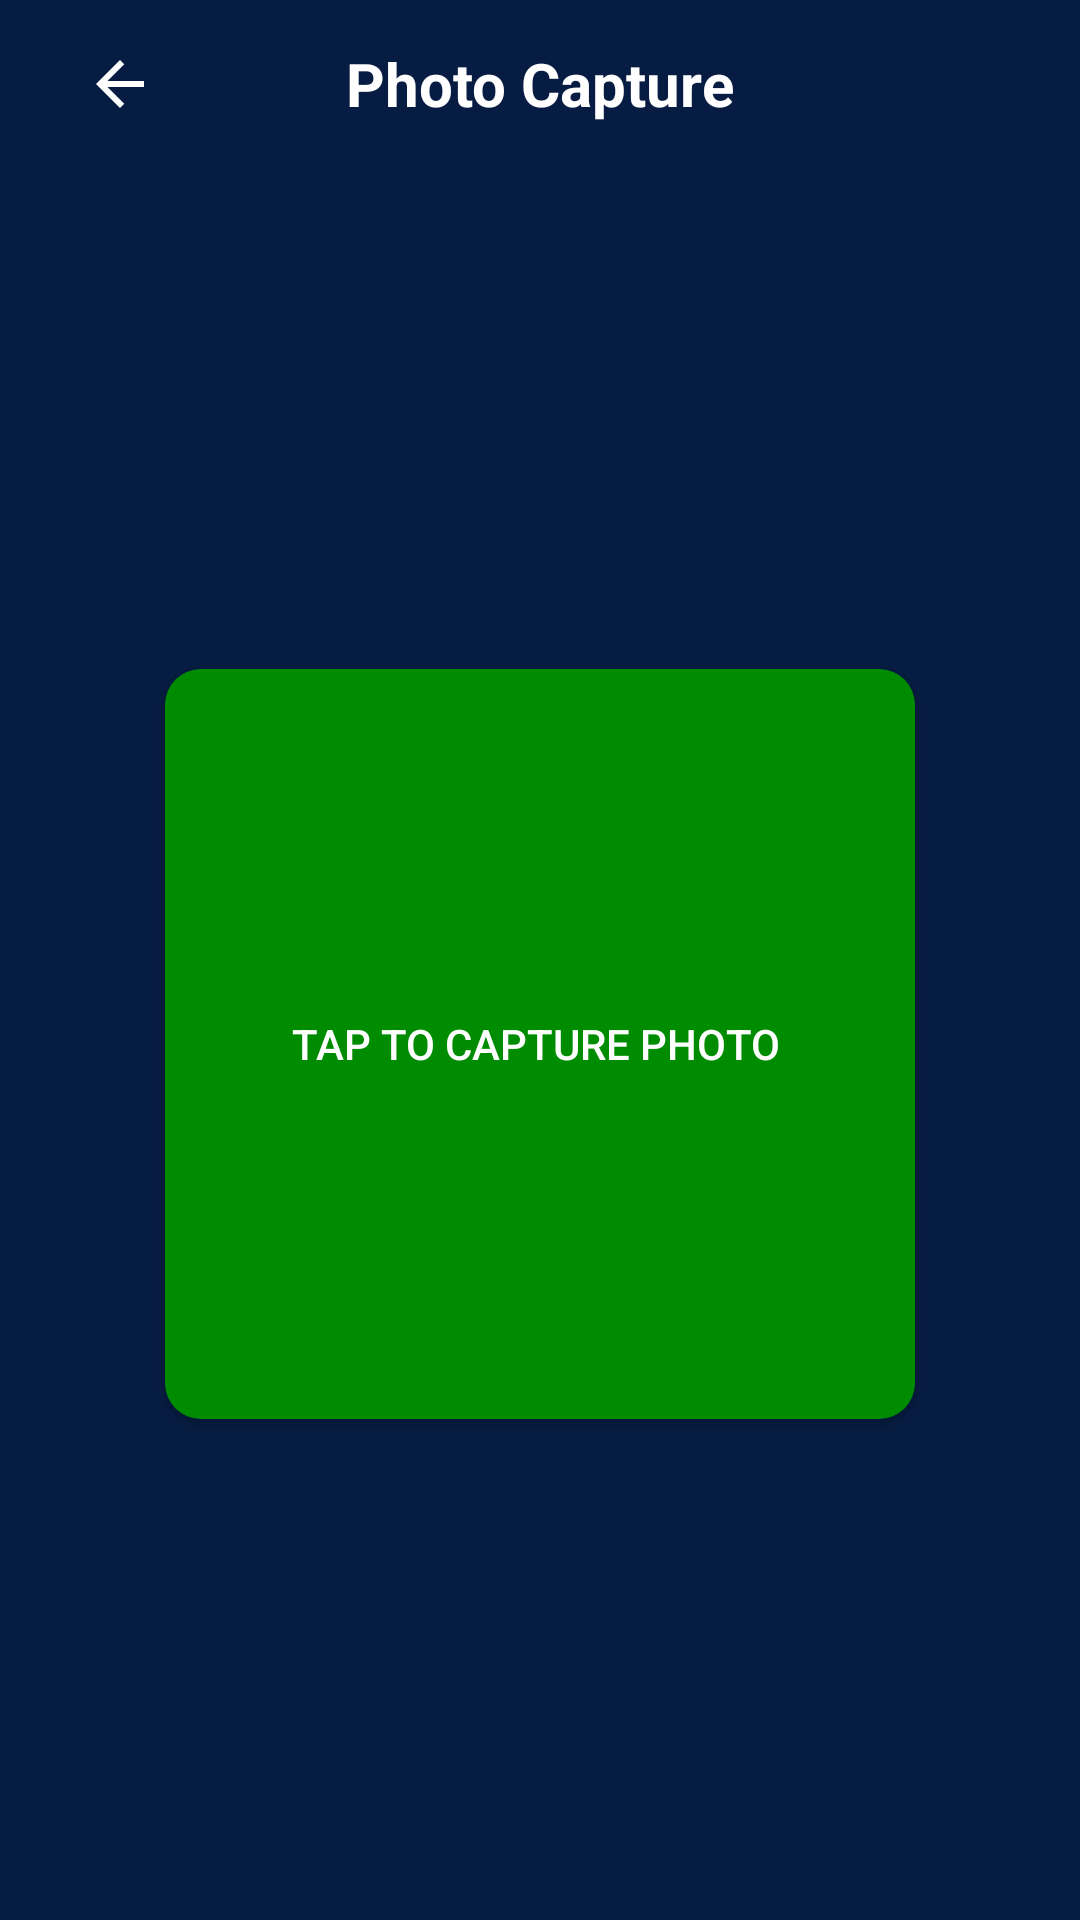

Screen size 1080px x 1920px. Icon name, then its box in pixels as (x1, y1, x2, y2):
Back: (96, 60, 144, 108)
